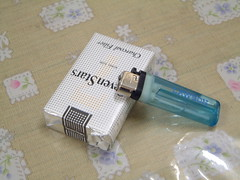cigarette: (41, 28, 159, 154)
